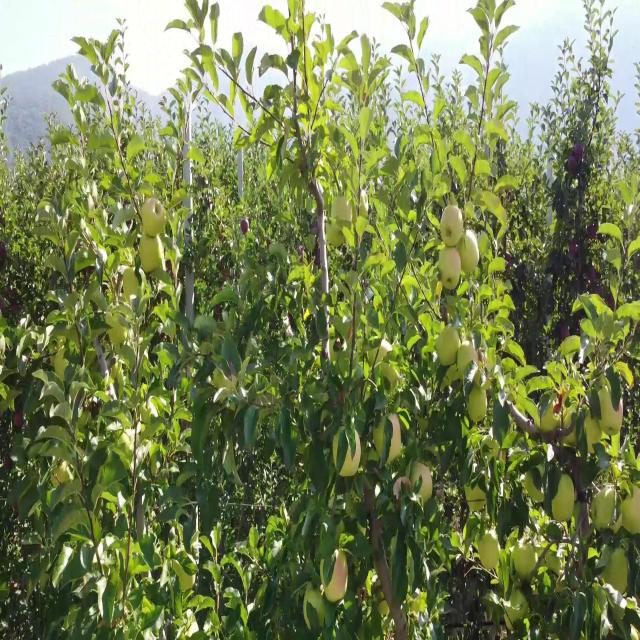apple: (324, 549, 348, 602), (602, 547, 628, 593), (551, 473, 575, 522), (599, 387, 622, 436), (512, 540, 538, 581), (456, 229, 480, 273), (436, 324, 460, 367), (139, 233, 164, 273), (340, 431, 361, 478), (458, 229, 480, 273), (141, 198, 165, 238), (440, 204, 462, 247), (439, 247, 461, 289), (478, 529, 500, 571), (212, 367, 238, 401), (622, 484, 640, 533), (304, 587, 324, 631), (411, 462, 432, 503), (458, 340, 479, 378), (584, 413, 602, 453), (468, 387, 488, 422), (388, 413, 401, 462), (472, 360, 491, 390), (122, 267, 139, 298), (326, 222, 345, 247), (392, 476, 411, 500), (372, 420, 384, 454), (56, 460, 72, 484), (444, 364, 460, 384), (475, 158, 491, 176), (478, 231, 489, 257), (456, 280, 469, 298), (12, 409, 22, 431), (464, 200, 475, 220), (431, 236, 445, 251), (574, 142, 585, 160), (332, 433, 339, 461), (625, 367, 634, 388), (10, 300, 20, 316), (569, 156, 579, 171), (4, 456, 12, 470)
